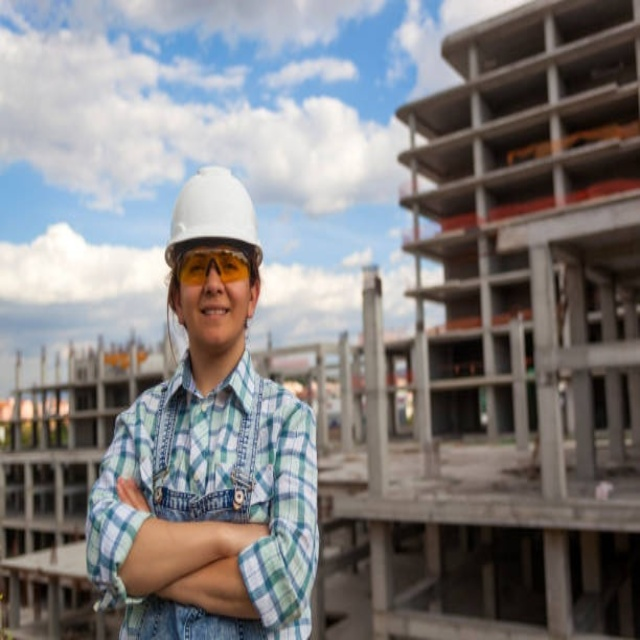Gafas: (176, 248, 253, 287)
Sin_mascara: (193, 298, 231, 336)
